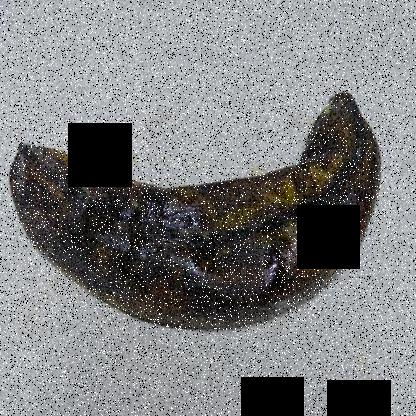rotten: (3, 66, 392, 348)
